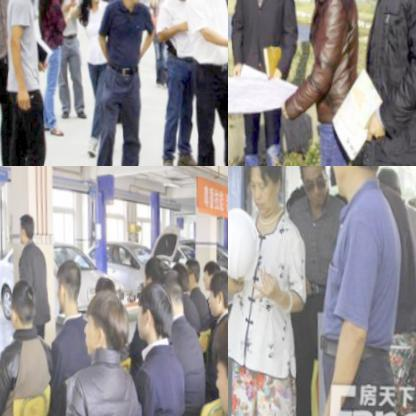head: (82, 287, 131, 362), (133, 278, 177, 345), (208, 301, 228, 415), (52, 251, 86, 317), (8, 272, 39, 328), (158, 256, 183, 308), (206, 263, 228, 310), (140, 248, 165, 288), (95, 270, 118, 309), (201, 250, 224, 289), (171, 252, 191, 291), (15, 208, 37, 243), (185, 248, 202, 287)
helmet: (322, 166, 389, 198)
